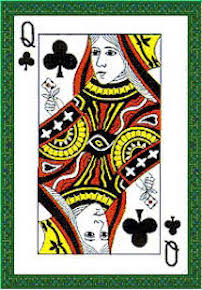QueenOfClubs: (6, 8, 192, 282)
